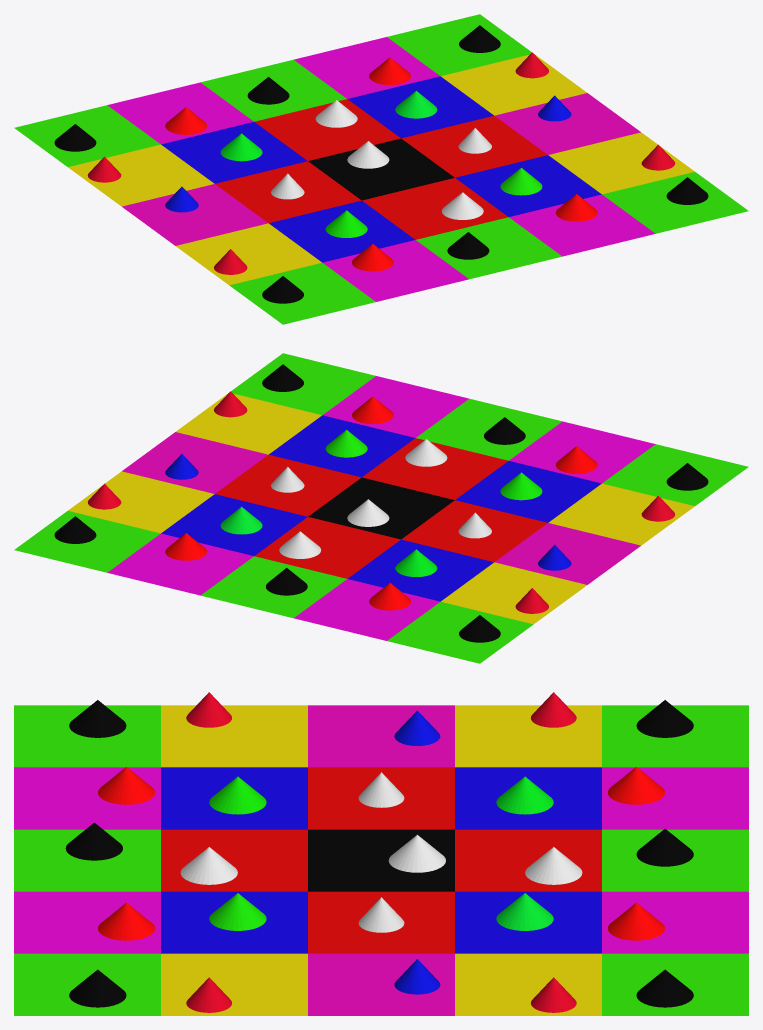
Rendered from debug-or.glb.
The picture shows the model from 3 angles, top to bottom: view 1: azimuth 30°, elevation 25°; view 2: azimuth 150°, elevation 25°; view 3: azimuth 270°, elevation 25°; orthographic projection. The views are drawn at different scales.
Parts seen in each view (by area): view 1: terrain4, terrain2, terrain1, terrain3, terrain14, terrain16, terrain13, terrain15, terrain24, terrain23, terrain0, terrain7 (+38 smaller); view 2: terrain2, terrain1, terrain3, terrain4, terrain16, terrain13, terrain14, terrain15, terrain22, terrain21, terrain7, terrain0 (+38 smaller); view 3: terrain15, terrain16, terrain1, terrain3, terrain13, terrain14, terrain2, terrain4, terrain8, terrain18, terrain19, terrain0 (+38 smaller).
Boxes of the visible parts, x1,y1,x2,y2 form: terrain4: [122, 184, 267, 245]; terrain2: [495, 93, 640, 154]; terrain1: [401, 115, 547, 177]; terrain3: [215, 161, 361, 223]; terrain14: [548, 132, 694, 194]; terrain16: [176, 223, 321, 285]; terrain13: [441, 54, 586, 115]; terrain15: [68, 144, 214, 206]; terrain24: [323, 240, 468, 301]; terrain23: [509, 194, 655, 256]; terrain0: [308, 138, 454, 200]; terrain7: [362, 178, 508, 239]; terrain2: [122, 432, 267, 493]; terrain1: [215, 454, 361, 516]; terrain3: [401, 500, 547, 562]; terrain4: [495, 523, 640, 584]; terrain16: [548, 483, 694, 545]; terrain13: [68, 471, 214, 533]; terrain14: [176, 393, 321, 454]; terrain15: [441, 562, 586, 624]; terrain22: [294, 579, 439, 640]; terrain21: [107, 533, 253, 595]; terrain7: [362, 438, 508, 499]; terrain0: [308, 477, 454, 539]; terrain15: [455, 705, 601, 767]; terrain16: [161, 705, 307, 767]; terrain1: [308, 891, 454, 953]; terrain3: [308, 767, 454, 829]; terrain13: [455, 953, 601, 1015]; terrain14: [161, 953, 307, 1015]; terrain2: [308, 953, 454, 1015]; terrain4: [308, 705, 454, 767]; terrain8: [14, 829, 160, 891]; terrain18: [602, 705, 748, 767]; terrain19: [14, 705, 160, 767]; terrain0: [308, 829, 454, 891].
Size of the model in its own units: 2560 by 100 by 2560.
